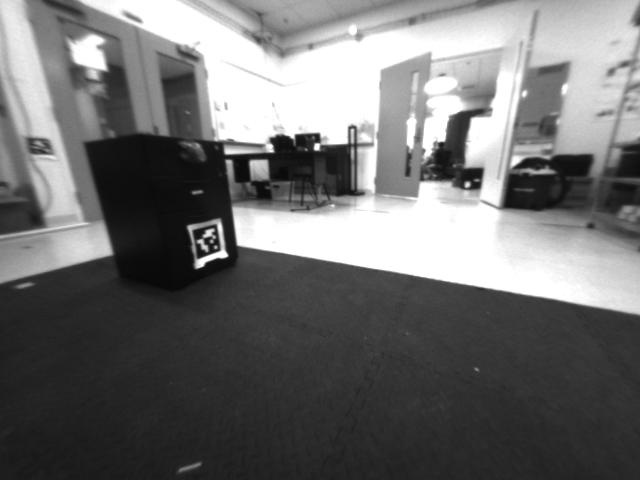drawer: (175, 138, 212, 171)
